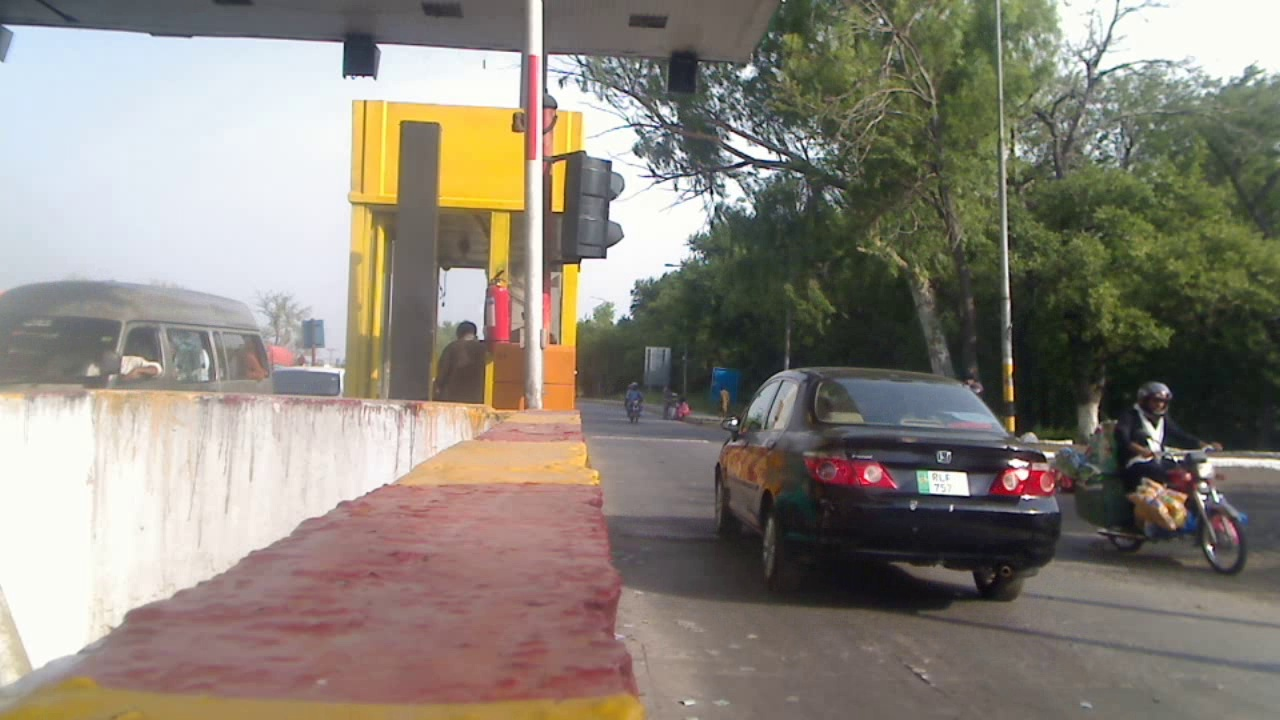Number Plate (Car): (917, 470, 967, 493)
